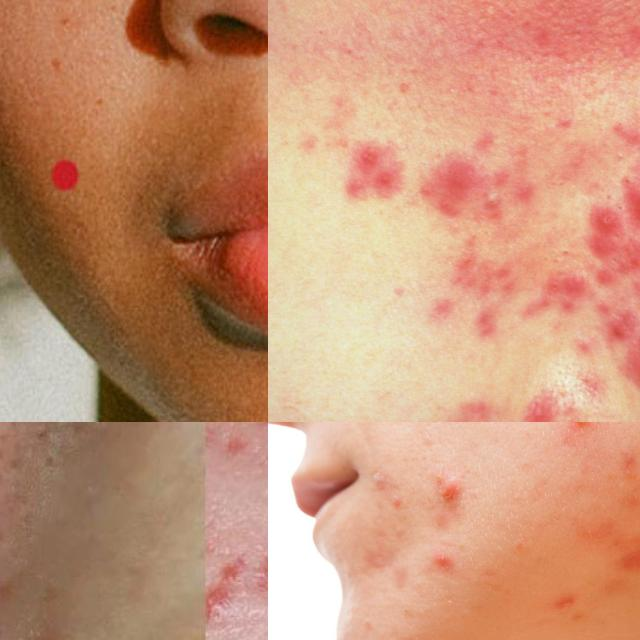papule: (347, 142, 418, 208), (574, 198, 632, 266), (425, 473, 476, 522), (612, 351, 640, 419), (516, 393, 563, 422), (620, 486, 640, 527)
pustule: (532, 422, 632, 452), (205, 422, 241, 482), (472, 187, 514, 217)
